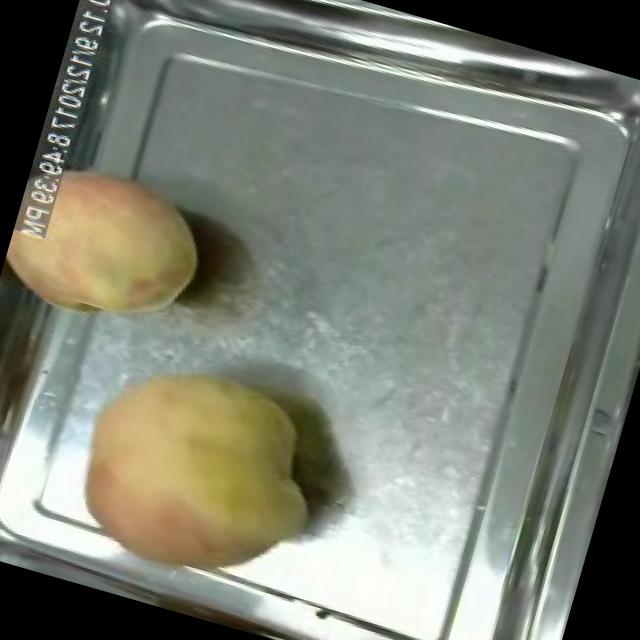Fruit: (43, 327, 350, 620), (0, 137, 225, 350)
